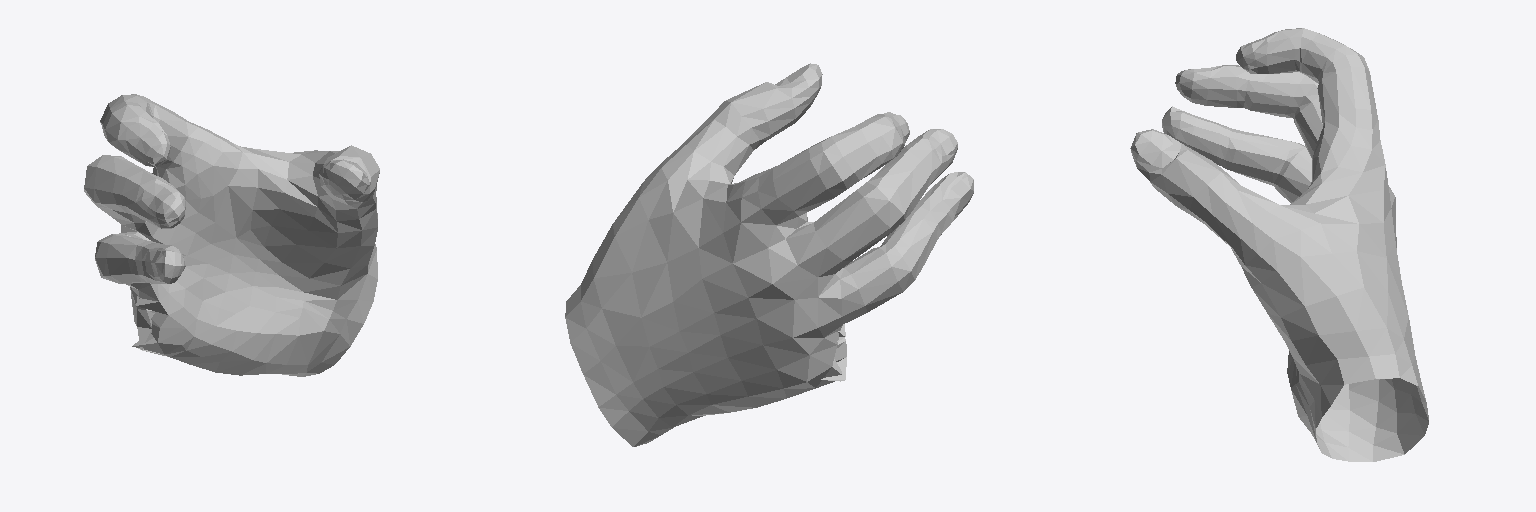
File: wo5_finger_position_param.obj
3 views of the same model, side by side, from view 1: azimuth 30°, elevation 25°; view 2: azimuth 150°, elevation 25°; view 3: azimuth 270°, elevation 25° (orthographic).
Size of the model in its own units: 0.1312 by 0.139 by 0.1103.